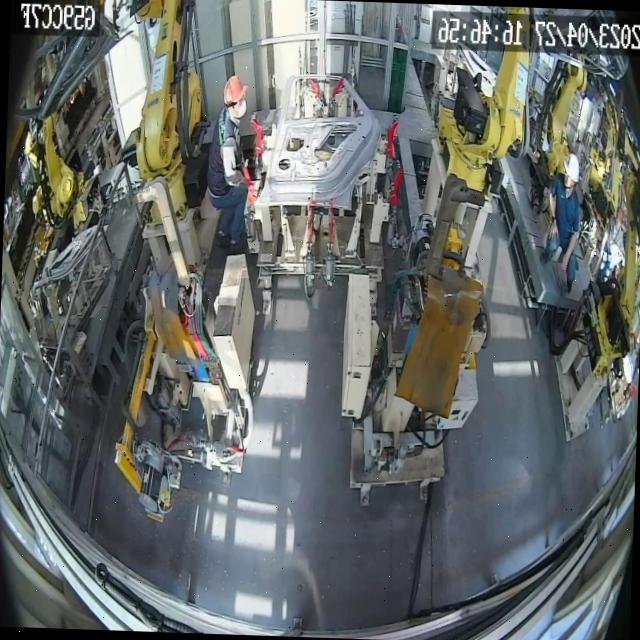Person: (204, 74, 254, 248), (540, 152, 582, 294)
